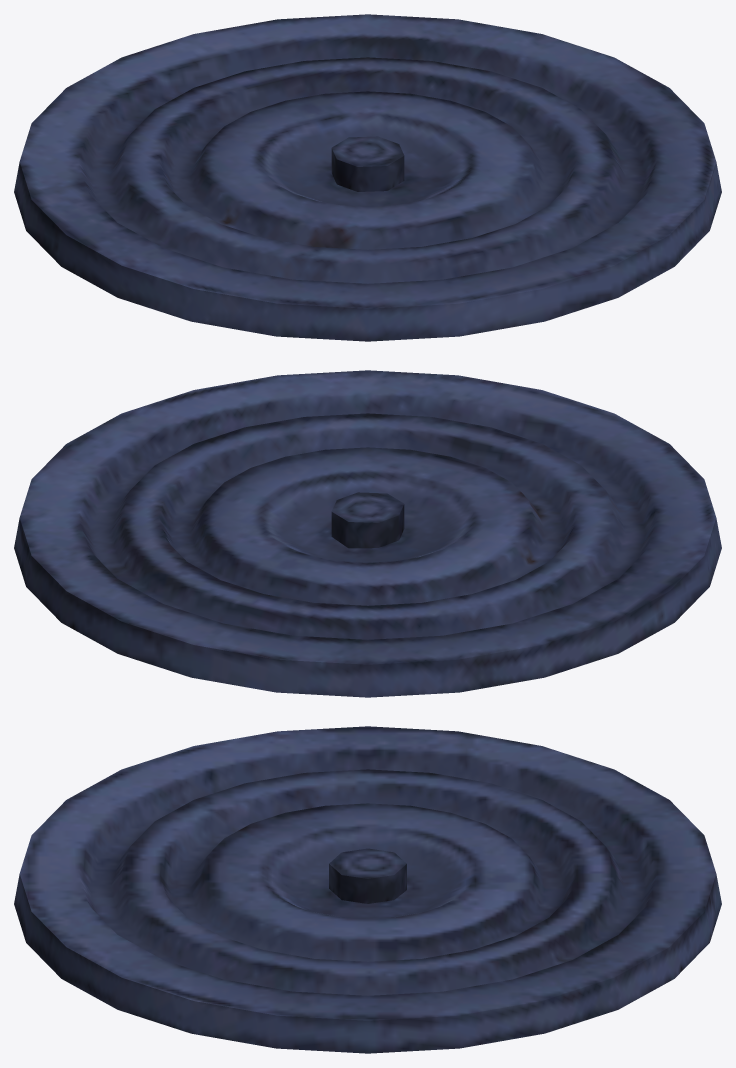
The model's file is trashBinLid01_blue.FBX.
The picture shows the model from 3 angles, top to bottom: view 1: azimuth 30°, elevation 25°; view 2: azimuth 150°, elevation 25°; view 3: azimuth 270°, elevation 25°; orthographic projection.
Visible parts, largest first — view 1: SM_TrashBinLid; view 2: SM_TrashBinLid; view 3: SM_TrashBinLid.
Part boxes in pixels (left/top/right/bottom): SM_TrashBinLid: left=14, top=14, right=721, bottom=341; SM_TrashBinLid: left=14, top=370, right=721, bottom=697; SM_TrashBinLid: left=14, top=726, right=721, bottom=1053.
Bounding box in the file's own units: 64.43 × 4.05 × 64.43.
1 material, 1 textured.
